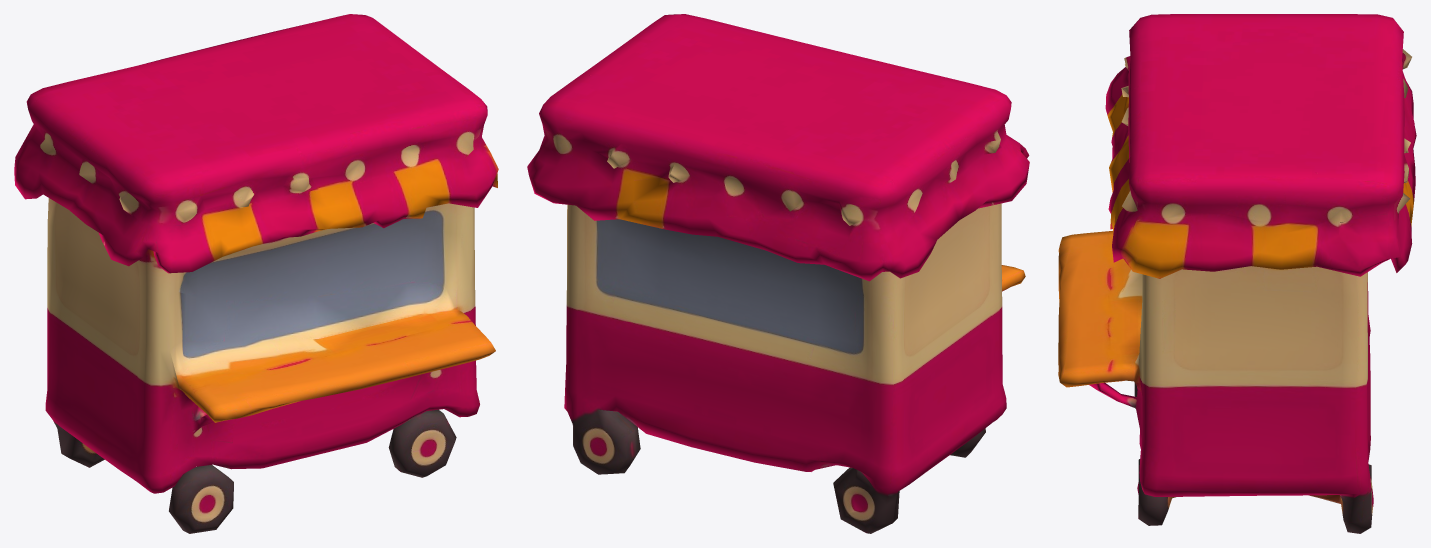
Rendered from cart_tripo.glb.
3 views of the same model, side by side, from view 1: azimuth 30°, elevation 25°; view 2: azimuth 150°, elevation 25°; view 3: azimuth 270°, elevation 25° (orthographic). The views are drawn at different scales.
Visible parts, largest first — view 1: tripo_node_478c49d2-bc7e-4554-825b-4043aea93d81; view 2: tripo_node_478c49d2-bc7e-4554-825b-4043aea93d81; view 3: tripo_node_478c49d2-bc7e-4554-825b-4043aea93d81.
Part boxes in pixels (<box>): tripo_node_478c49d2-bc7e-4554-825b-4043aea93d81: <box>14,14,498,533</box>; tripo_node_478c49d2-bc7e-4554-825b-4043aea93d81: <box>527,14,1029,533</box>; tripo_node_478c49d2-bc7e-4554-825b-4043aea93d81: <box>1058,14,1416,533</box>.
Size of the model in its own units: 0.962 by 0.898 by 0.7773.
1 material, 1 textured.
